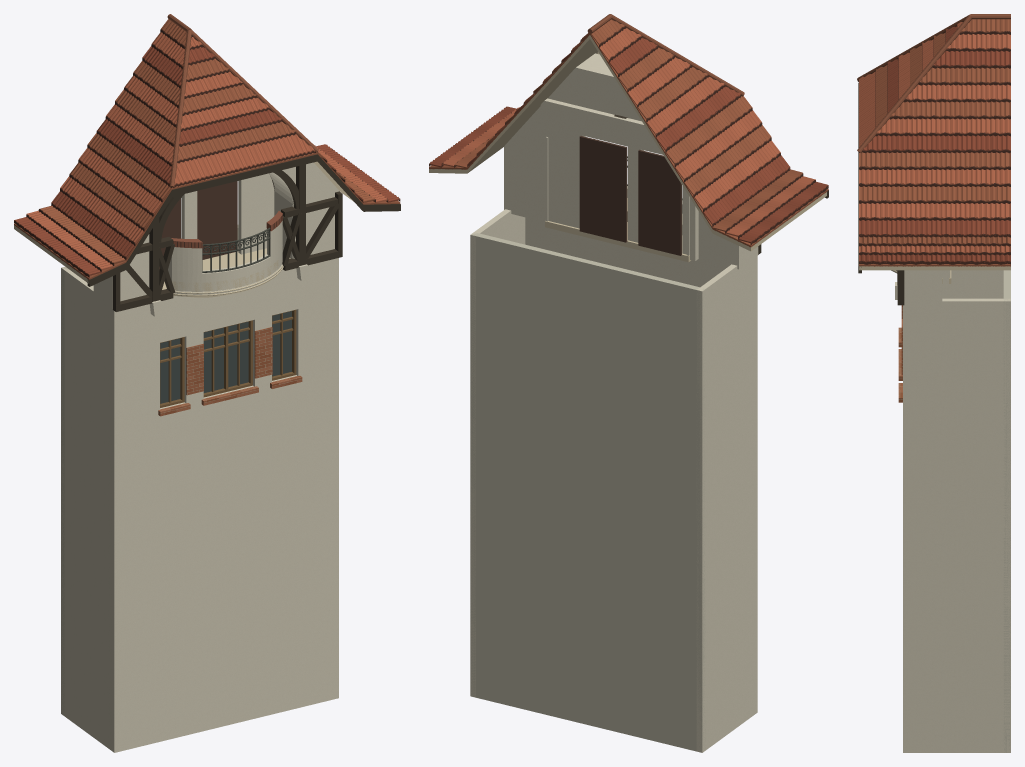
Rendered from full-source.glb.
The picture shows the model from 3 angles, left to right: view 1: azimuth 30°, elevation 25°; view 2: azimuth 150°, elevation 25°; view 3: azimuth 270°, elevation 25°; orthographic projection. The views are drawn at different scales.
Visible parts, largest first — view 1: 高安路77号花园住宅折檐弧阳台; view 2: 高安路77号花园住宅折檐弧阳台; view 3: 高安路77号花园住宅折檐弧阳台.
Part boxes in pixels (x1=…): 高安路77号花园住宅折檐弧阳台: x1=14, y1=14, x2=400, y2=752; 高安路77号花园住宅折檐弧阳台: x1=429, y1=14, x2=828, y2=752; 高安路77号花园住宅折檐弧阳台: x1=857, y1=14, x2=1010, y2=752.
Size of the model in its own units: 6.64 by 13.73 by 2.81.
Materials: 16 (2 with a texture image).
